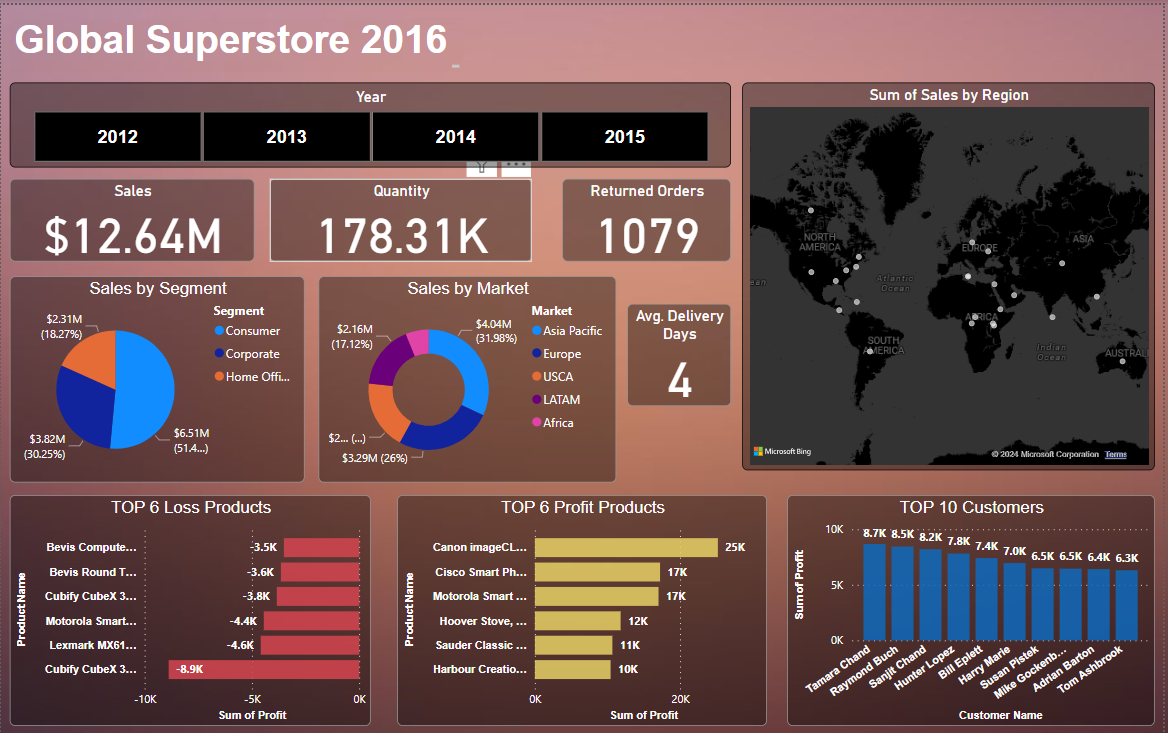

The dashboard page shown, as its layout file describes it:
{"tool":"powerbi","page":{"name":"Global Superstore_2016","canvas":[1280,720],"ordinal":0},"visuals":[{"type":"card","title":"Sales","fields":{"Values":["Orders.Sales"]},"box":[9.6,113.9,240.1,91.9],"z":0},{"type":"card","title":"Quantity","fields":{"Values":["Orders.Quantity"]},"box":[315.6,113.9,248.4,91.9],"z":1000},{"type":"card","title":"Avg. Delivery Days","fields":{"Values":["Orders.Delivery Days"]},"box":[665.5,237.4,138.6,122.1],"z":2000},{"type":"slicer","title":"Year","fields":{"Values":["Orders.Year"]},"box":[9.6,9.6,794.5,93.3],"z":3000},{"type":"card","title":"Returned Orders","fields":{"Values":["Returns.Return Orders"]},"box":[649.1,113.9,155.1,91.9],"z":4000},{"type":"map","fields":{"Category":["Returns.Region"],"Size":["Orders.Sales"]},"box":[843.9,9.6,426.8,319.7],"z":5000},{"type":"columnChart","title":"TOP 10 Customers","fields":{"Y":["Orders.Profit"],"Category":["Orders.Customer Name"]},"box":[865.9,452.8,404.8,255.2],"z":7000},{"type":"barChart","title":"TOP 6 Loss Products","fields":{"Category":["Orders.Product Name"],"Y":["Orders.Profit"]},"box":[9.6,452.8,397.9,255.2],"z":7001},{"type":"pieChart","title":"Sales by Segment","fields":{"Y":["Orders.Sales"],"Category":["Orders.Segment"]},"box":[9.6,215.4,306,226.4],"z":7002},{"type":"donutChart","title":"Sales by Market","fields":{"Y":["Orders.Sales"],"Category":["Orders.Market"]},"box":[328,215.4,321.1,226.4],"z":7003},{"type":"barChart","title":"TOP 6 Profit Products","fields":{"Category":["Orders.Product Name"],"Y":["Orders.Profit"]},"box":[417.2,452.8,407.5,255.2],"z":7004}]}

Visuals, with their boxes on the page's 1280x720 design canvas (x1, y1, x2, y2). These are canvas units, not pixel positions in the 1168x733 screenshot, which may show the page scaled, cropped or inside an application window:
"Sales" card: l=10, t=114, r=250, b=206
"Quantity" card: l=316, t=114, r=564, b=206
"Avg. Delivery Days" card: l=666, t=237, r=804, b=360
"Year" slicer: l=10, t=10, r=804, b=103
"Returned Orders" card: l=649, t=114, r=804, b=206
map - Returns.Region x Orders.Sales: l=844, t=10, r=1271, b=329
"TOP 10 Customers" columnChart: l=866, t=453, r=1271, b=708
"TOP 6 Loss Products" barChart: l=10, t=453, r=408, b=708
"Sales by Segment" pieChart: l=10, t=215, r=316, b=442
"Sales by Market" donutChart: l=328, t=215, r=649, b=442
"TOP 6 Profit Products" barChart: l=417, t=453, r=825, b=708
